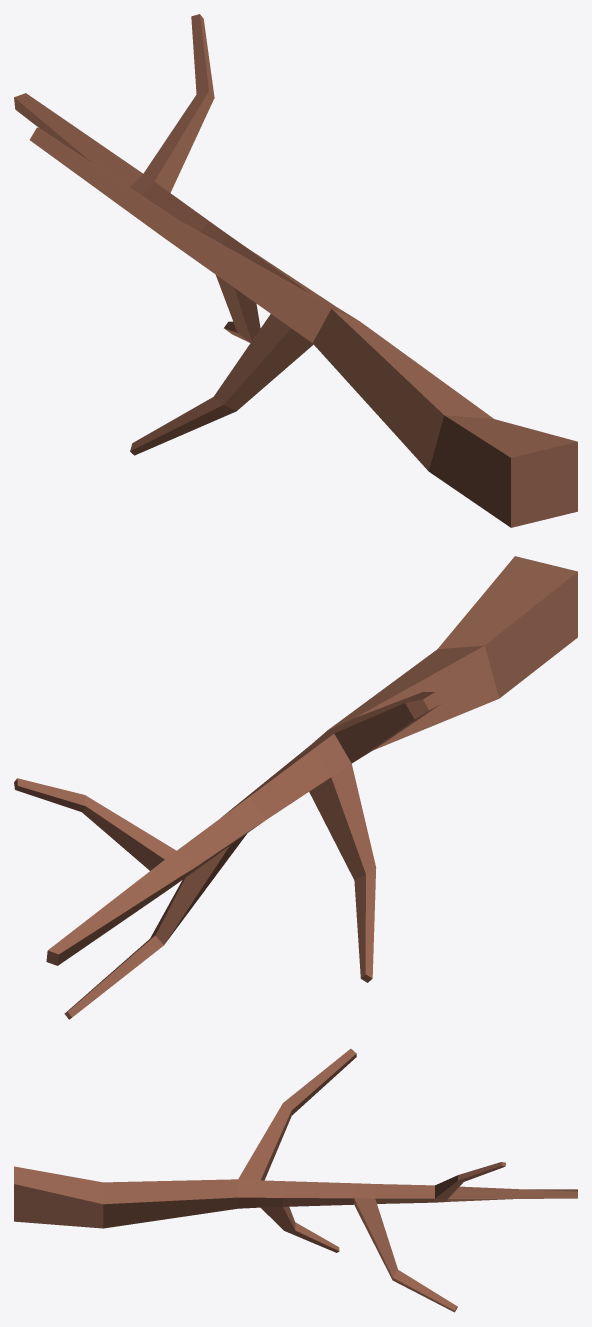
Rendered from DeadOak.fbx.
The picture shows the model from 3 angles, top to bottom: view 1: azimuth 30°, elevation 25°; view 2: azimuth 150°, elevation 25°; view 3: azimuth 270°, elevation 25°; orthographic projection. The views are drawn at different scales.
Visible parts, largest first — view 1: DeadOak2.044; view 2: DeadOak2.044; view 3: DeadOak2.044.
Boxes of the visible parts, left/top/right/bottom form: DeadOak2.044: left=14, top=14, right=577, bottom=527; DeadOak2.044: left=14, top=556, right=577, bottom=1019; DeadOak2.044: left=14, top=1048, right=577, bottom=1312.
Size of the model in its own units: 1034 by 2989 by 1096.
